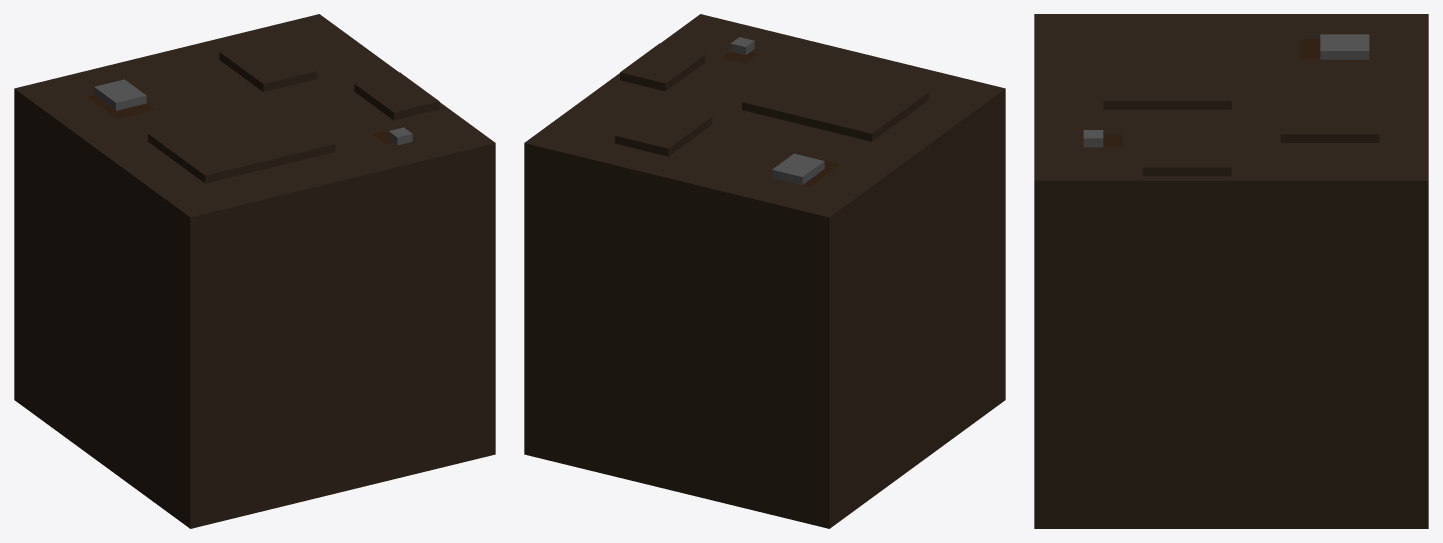
File: DirtBlock1.obj
The picture shows the model from 3 angles, left to right: view 1: azimuth 30°, elevation 25°; view 2: azimuth 150°, elevation 25°; view 3: azimuth 270°, elevation 25°; orthographic projection. The views are drawn at different scales.
Bounding box in the file's own units: 4 × 4 × 4.
Materials: 1 (1 with a texture image).
